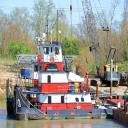tugboat: (6, 29, 115, 122)
